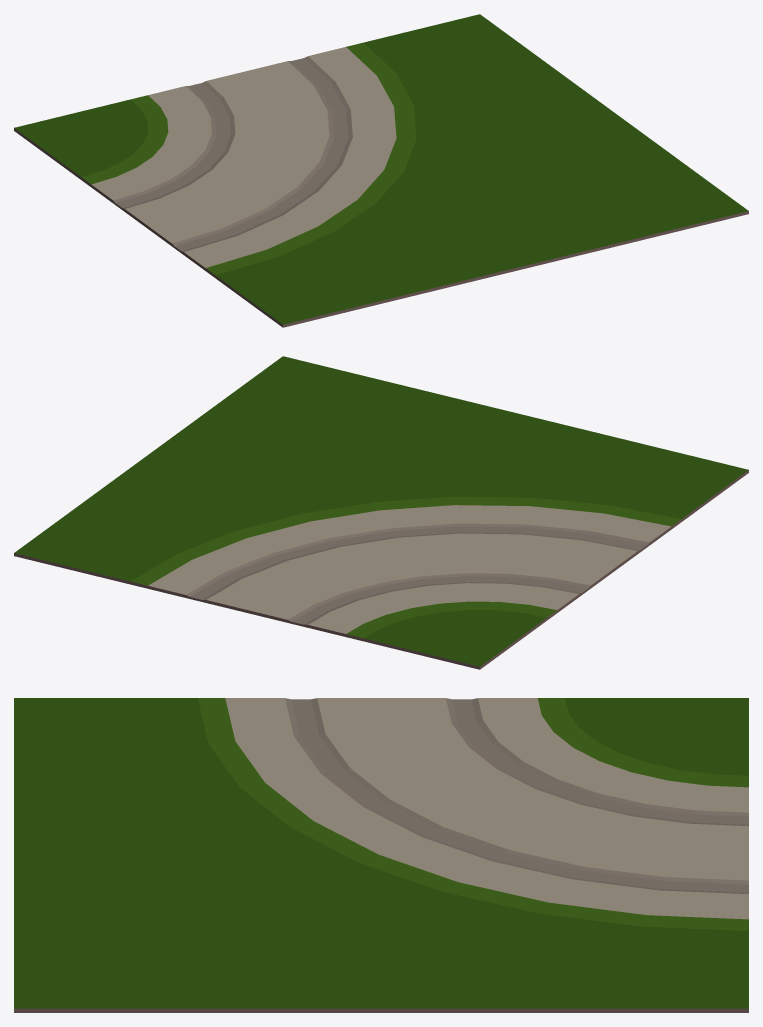
File: FMS_Mach_Demo_Road_Corner.fbx
3 renders of one model, top to bottom at view 1: azimuth 30°, elevation 25°; view 2: azimuth 150°, elevation 25°; view 3: azimuth 270°, elevation 25°, orthographic. The views are drawn at different scales.
Parts seen in each view (by area): view 1: Road_Corner; view 2: Road_Corner; view 3: Road_Corner.
Boxes of the visible parts, x1,y1,x2,y2 form: Road_Corner: (14, 14, 748, 327); Road_Corner: (14, 356, 748, 669); Road_Corner: (14, 698, 748, 1012).
Size of the model in its own units: 8 by 0.05 by 8.
